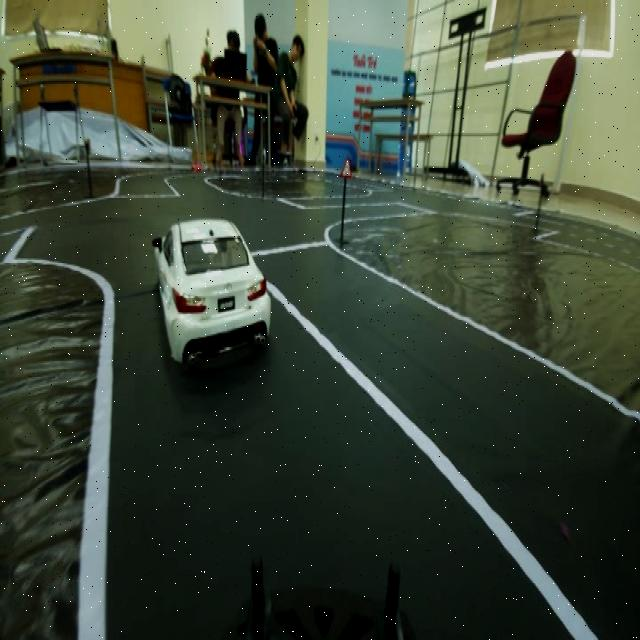car: (151, 218, 284, 381)
